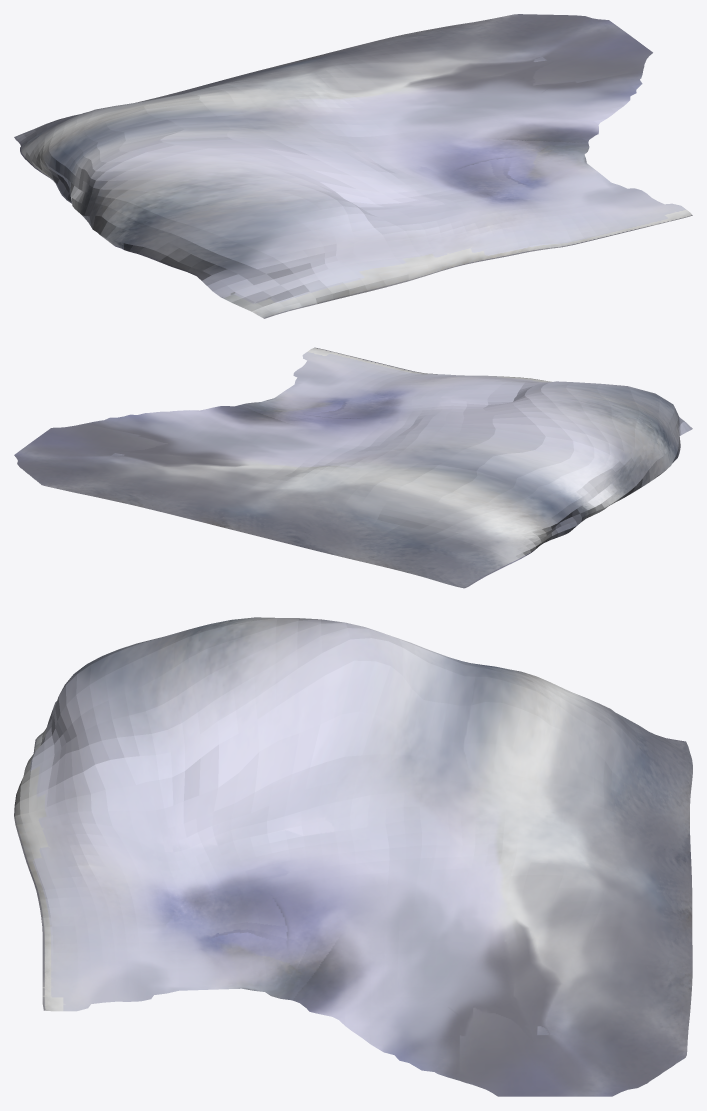
Rendered from hill 5 big.fbx.
The picture shows the model from 3 angles, top to bottom: view 1: azimuth 30°, elevation 25°; view 2: azimuth 150°, elevation 25°; view 3: azimuth 270°, elevation 25°; orthographic projection. The views are drawn at different scales.
Parts seen in each view (by area): view 1: Plane.003; view 2: Plane.003; view 3: Plane.003.
Part boxes in pixels (x1,y1,x2,y2): Plane.003: [14, 14, 692, 318]; Plane.003: [14, 347, 692, 588]; Plane.003: [14, 617, 692, 1096].
Size of the model in its own units: 10609 by 1283 by 7547.
